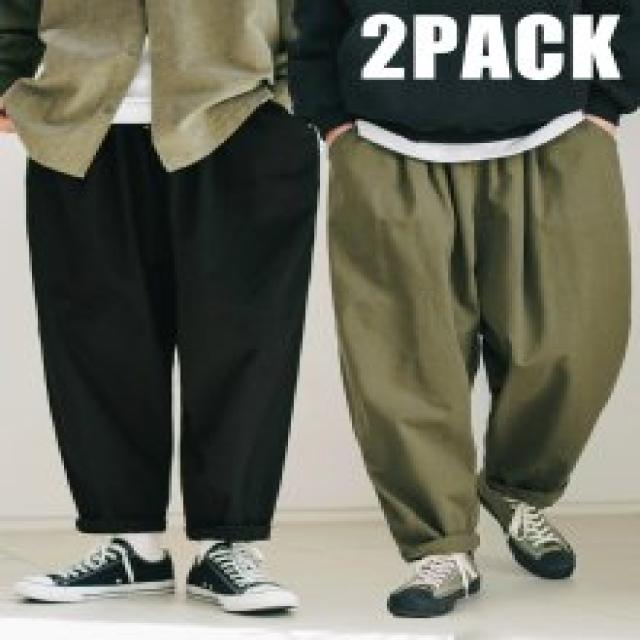long-pants: (328, 117, 633, 558), (22, 100, 314, 540)
